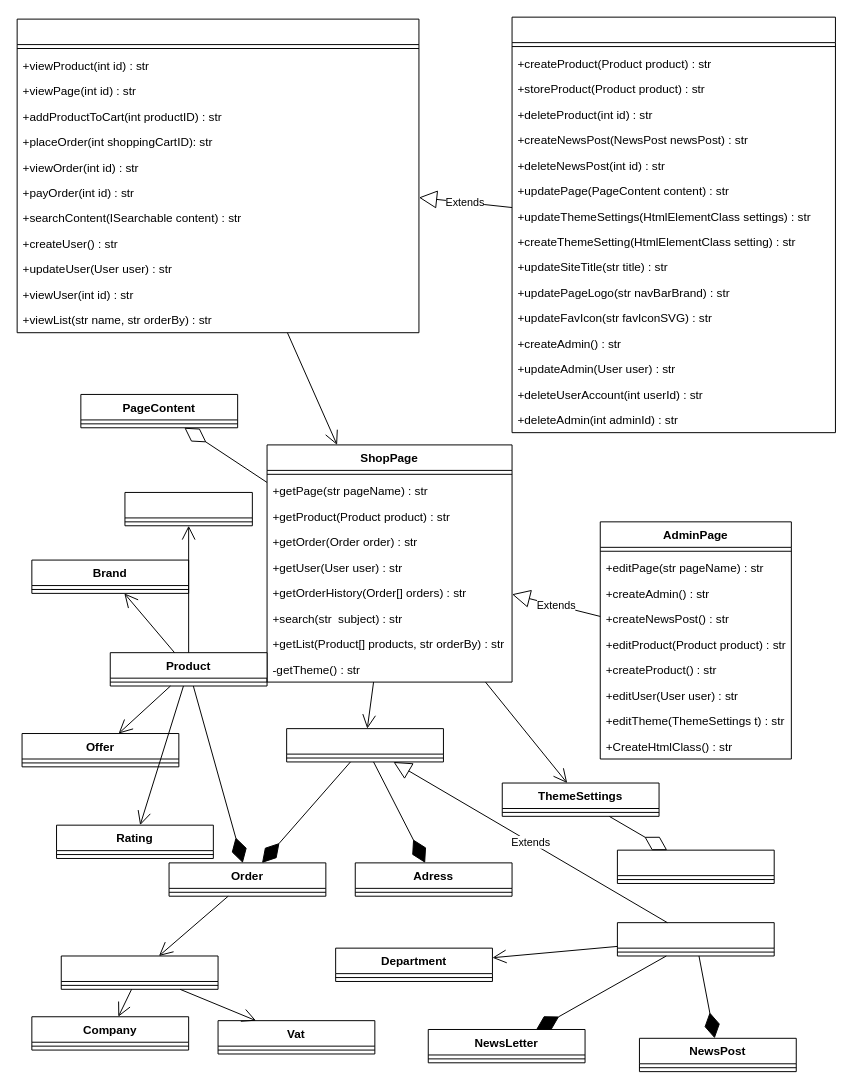
The diagram is 853 pixels wide and 1089 high, and some of its shapes have lost their labels. The box of each missing label's shape, as (x1, y1, x2, y2) in pixels:
Admin: (616, 922, 774, 956)
AdminController: (511, 16, 835, 433)
Category: (124, 491, 252, 526)
Delivery: (60, 955, 218, 989)
HtmlElementClass: (616, 849, 774, 883)
ShopController: (16, 18, 419, 333)
User: (286, 728, 443, 762)
